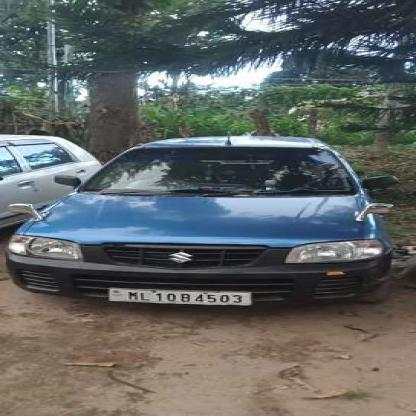license_plate: (104, 287, 248, 305)
